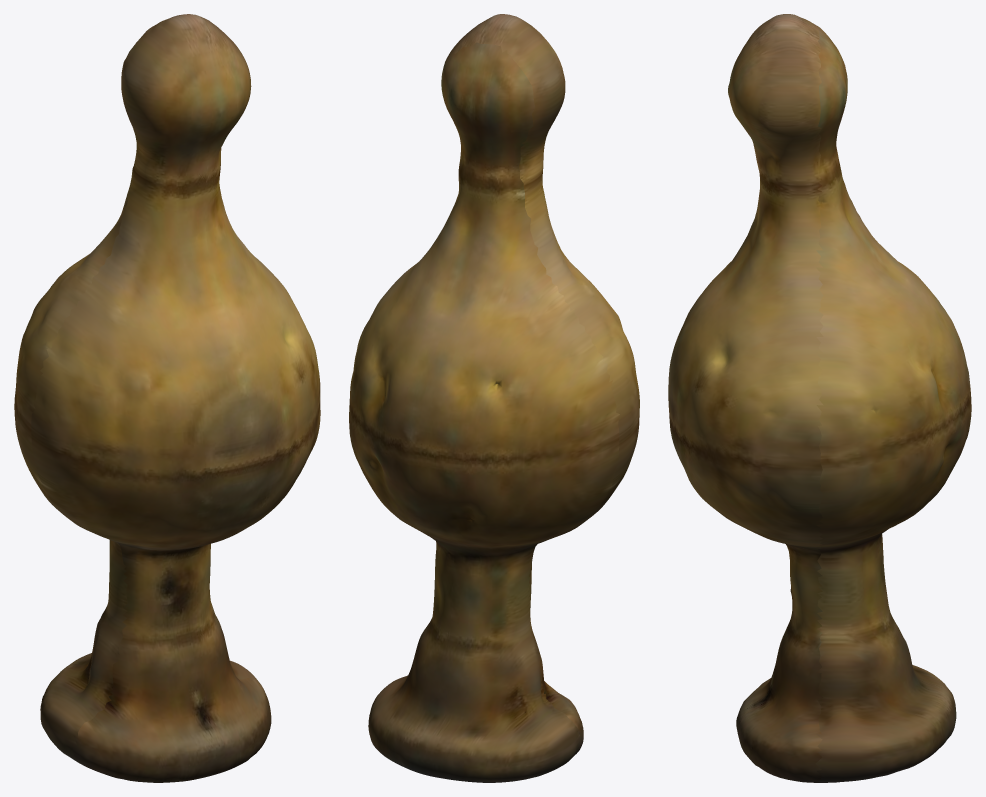
File: kfl-2290.glb
3 views of the same model, side by side, from view 1: azimuth 30°, elevation 25°; view 2: azimuth 150°, elevation 25°; view 3: azimuth 270°, elevation 25° (orthographic). The views are drawn at different scales.
Visible parts, largest first — view 1: geometry_0; view 2: geometry_0; view 3: geometry_0.
Part boxes in pixels (<box>): geometry_0: <box>14,14,320,782</box>; geometry_0: <box>349,14,639,782</box>; geometry_0: <box>668,14,971,782</box>.
Size of the model in its own units: 0.3718 by 0.9961 by 0.3734.
Materials: 1 (1 with a texture image).
